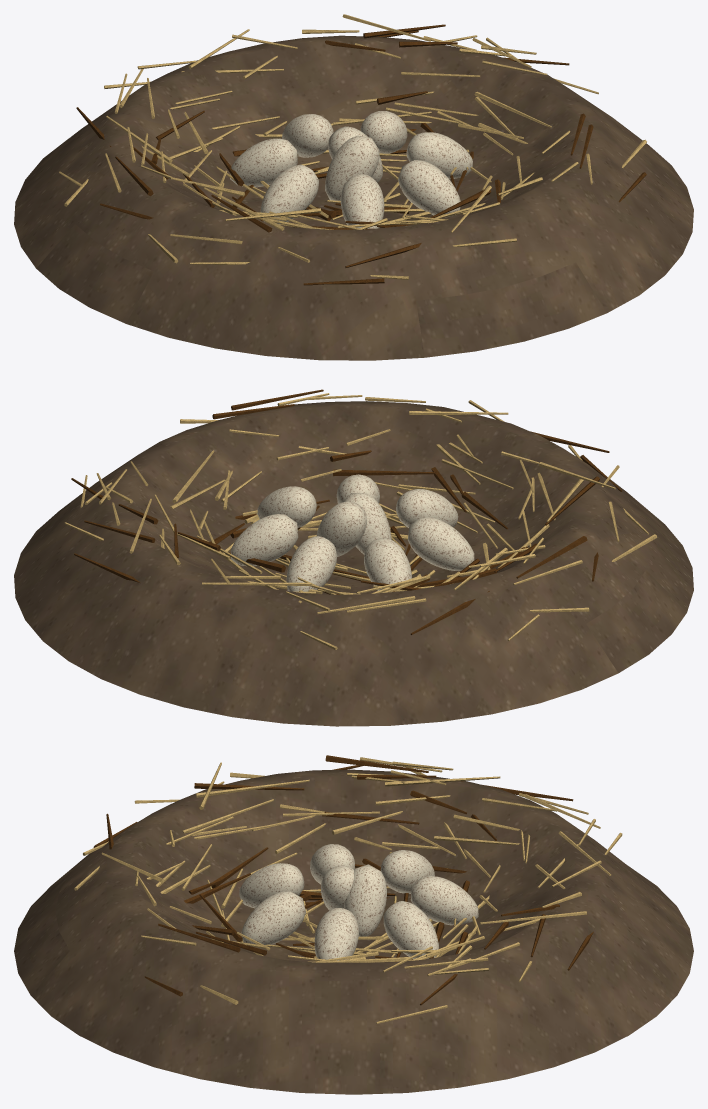
File: dinosaur-egg-nest.glb
3 views of the same model, one above another, from view 1: azimuth 30°, elevation 25°; view 2: azimuth 150°, elevation 25°; view 3: azimuth 270°, elevation 25° (orthographic).
Visible parts, largest first — view 1: Egg_Nest, Egg_Hatch; view 2: Egg_Nest, Egg_Hatch; view 3: Egg_Nest, Egg_Hatch.
Part boxes in pixels (x1,y1,x2,y2): Egg_Nest: (14,14,693,360); Egg_Hatch: (325,135,379,200); Egg_Nest: (14,389,693,726); Egg_Hatch: (344,493,391,554); Egg_Nest: (14,755,693,1094); Egg_Hatch: (321,865,353,910).
Bounding box in the file's own units: 1.96 × 0.3076 × 1.96.
Materials: 4 (4 with a texture image).
